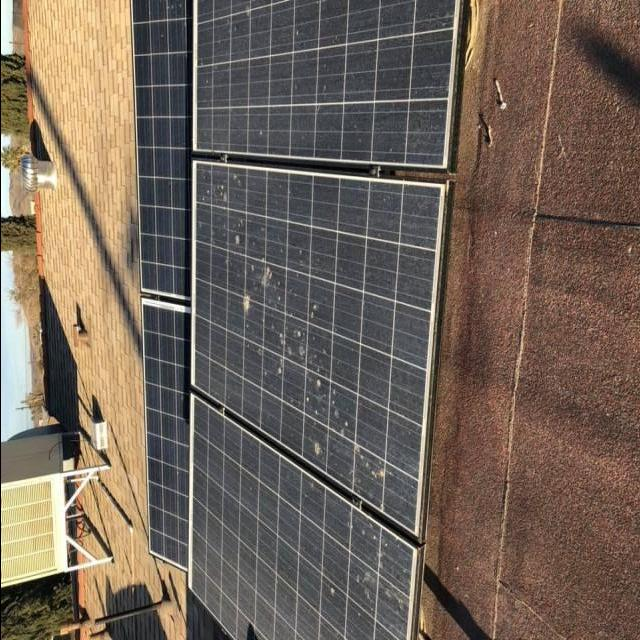soiled: (188, 0, 454, 630)
